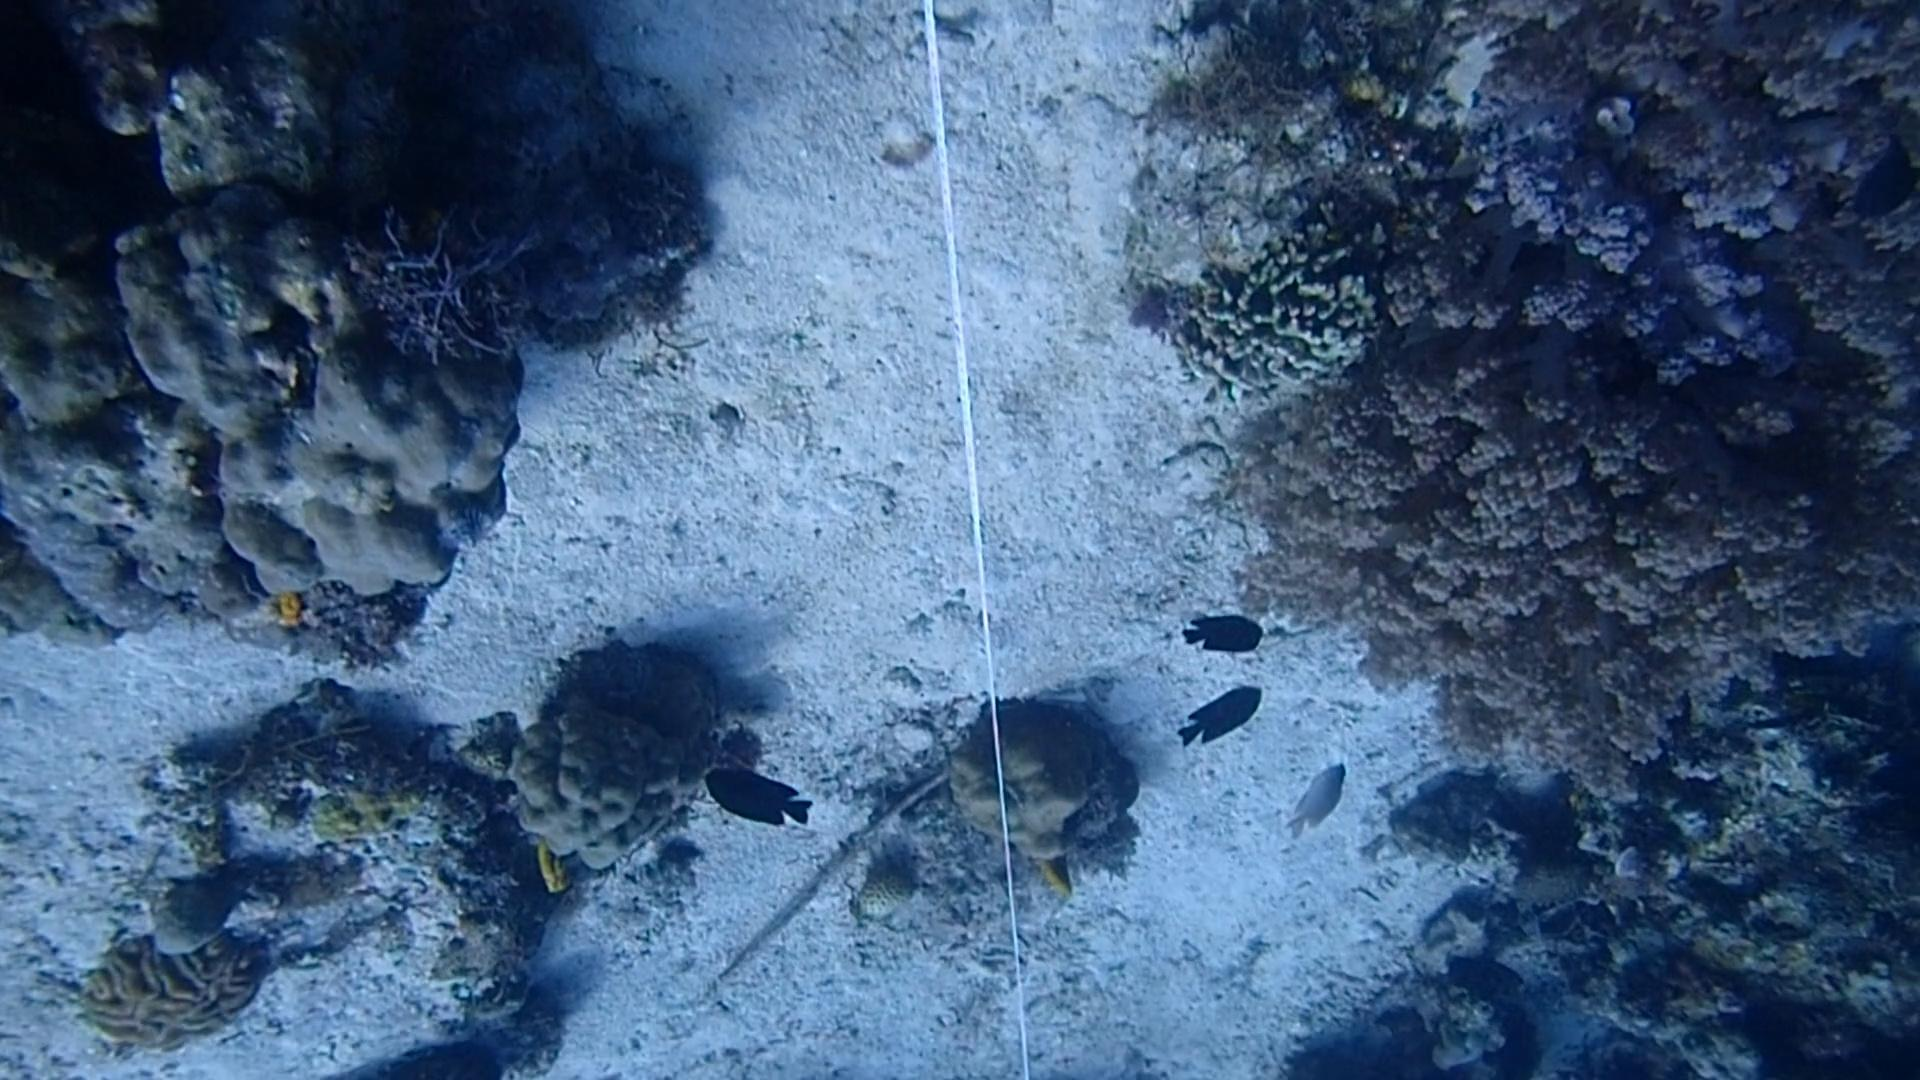Dark Fish: (691, 754, 818, 839), (1174, 670, 1270, 754), (1170, 604, 1270, 674), (1846, 141, 1920, 235)
Light Fish: (1283, 750, 1352, 847)
